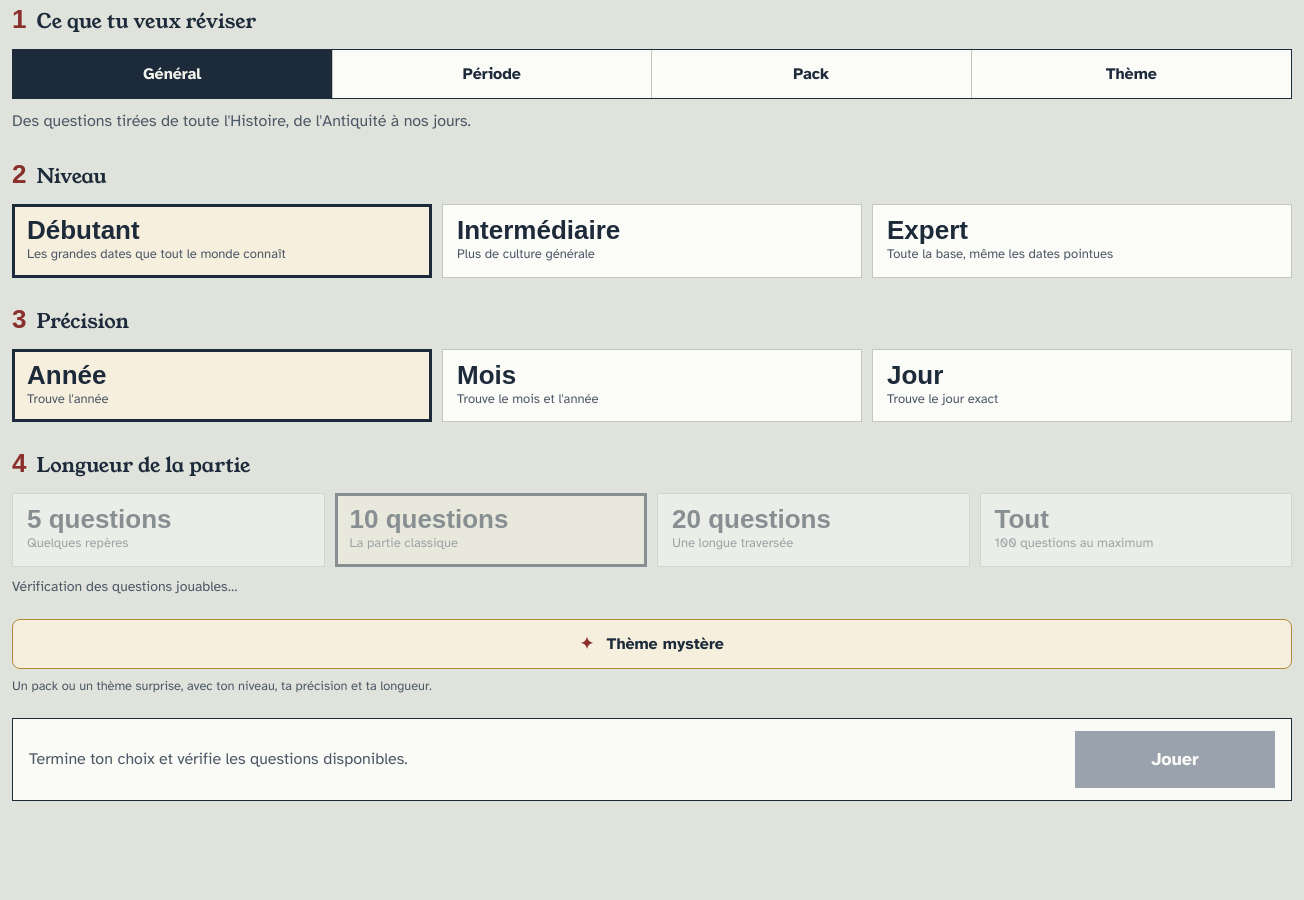
Test case: oublie immédiatement le décompte du niveau précédent et ignore une réponse réseau périmée
Click the button "Expert Toute la base, même les dates pointues" at point(927, 230), box [872,204,1292,278]
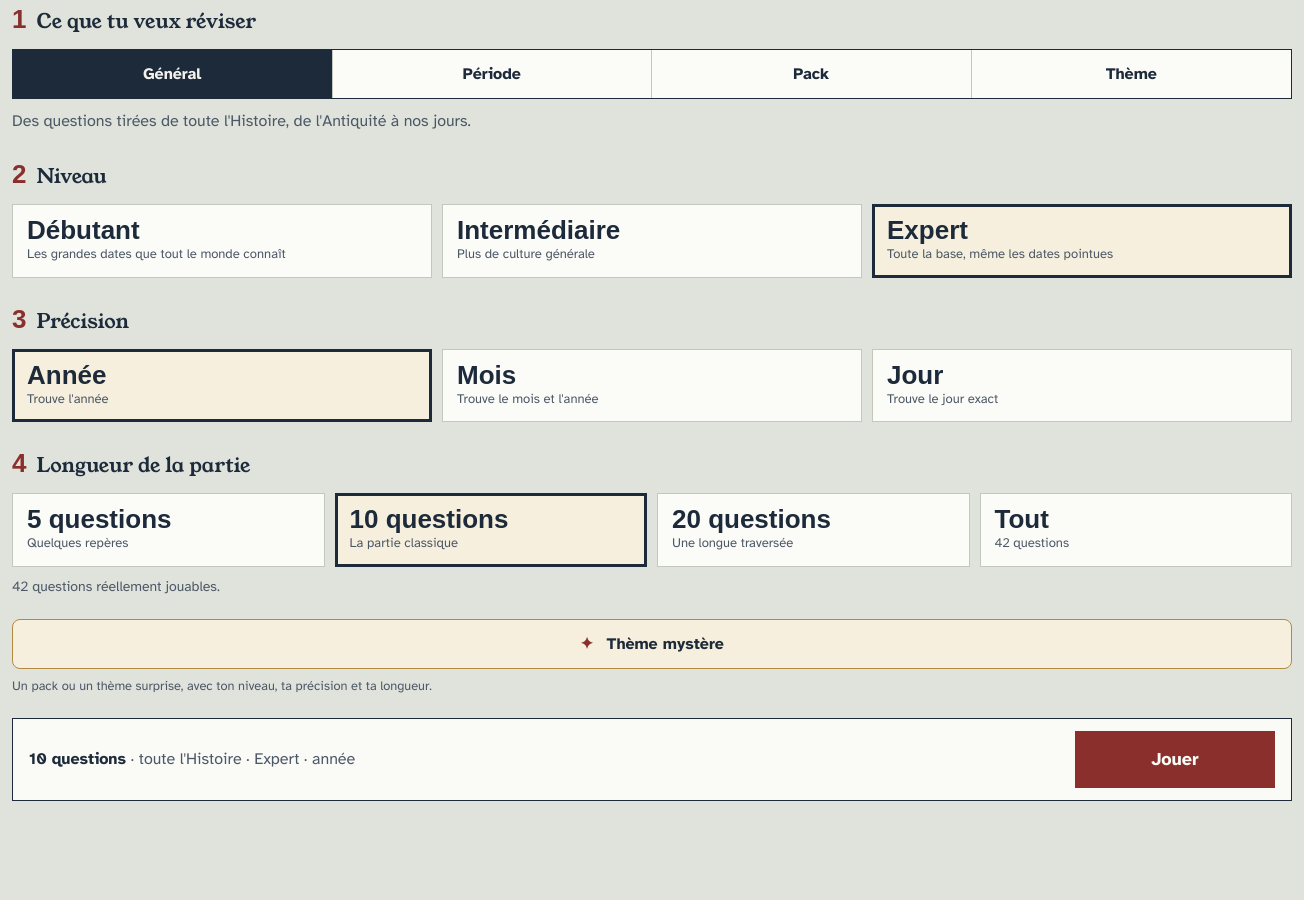
expect the text "42 questions réellement jouables." is shown: met, box [12,578,220,594]
expect the button "20 questions Une longue traversée" is enabled: met, box [657,493,970,566]
